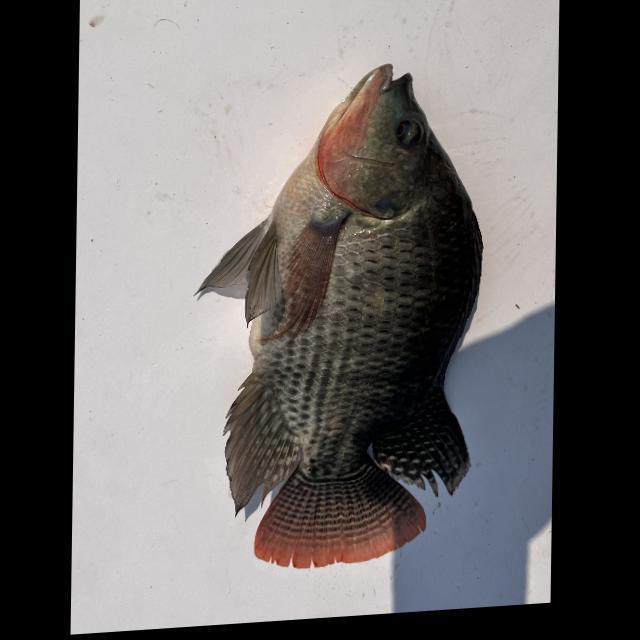Tilapia: (189, 59, 483, 575)
